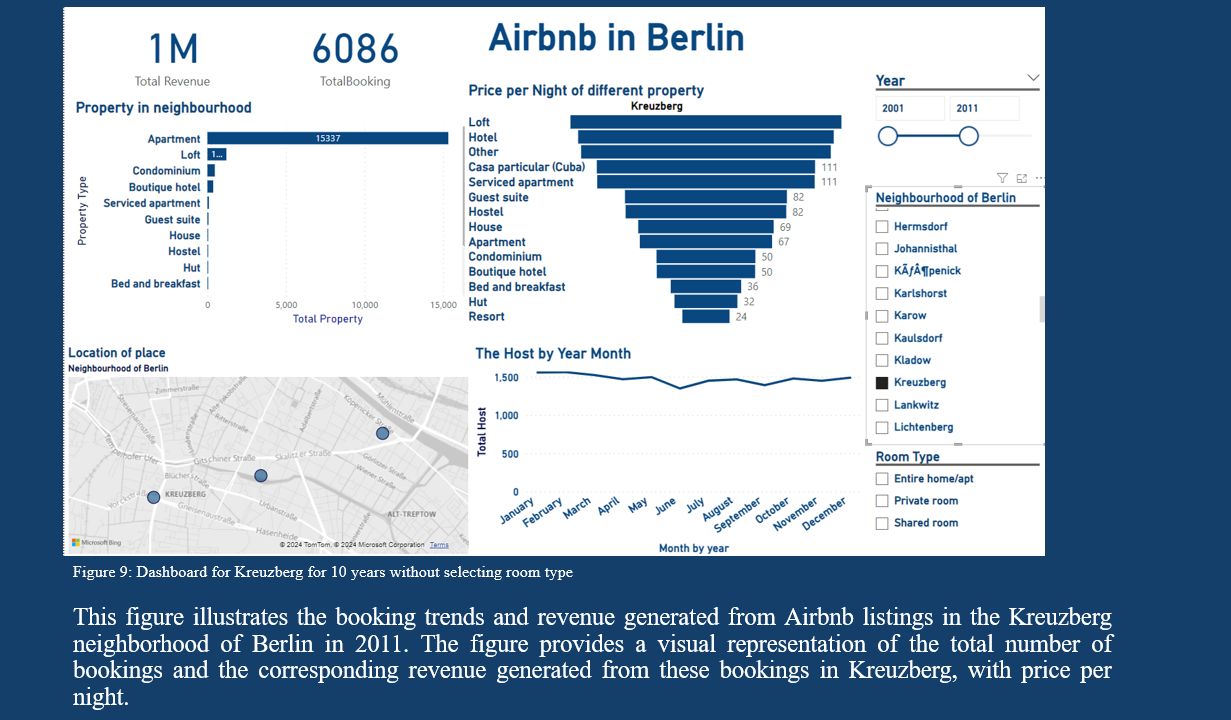

The page's visual inventory and layout, read from the dashboard file:
{"tool":"powerbi","page":{"name":"Airbnb","canvas":[1280,720],"ordinal":0},"visuals":[{"type":"slicer","fields":{"Values":["modified_dataset.neighbourhood"]},"box":[1041.5,237.4,238.8,336.2],"z":0},{"type":"slicer","fields":{"Values":["modified_dataset.room type"]},"box":[1041.5,573.6,238.8,146.8],"z":1000},{"type":"clusteredBarChart","title":"Property in neighbourhood","fields":{"Category":["modified_dataset.property type"],"Y":["CountNonNull(modified_dataset.neighbourhood)"]},"box":[9.6,123.5,520.1,299.1],"z":2000},{"type":"funnel","title":"Average price per Night of different property (Euro)","fields":{"Category":["modified_dataset.property type"],"Y":["Avg(modified_dataset.price)"]},"box":[520.1,101.5,499.5,321.1],"z":3000},{"type":"map","title":"Location of place","fields":{"Category":["modified_dataset.city"],"Series":["modified_dataset.neighbourhood"],"X":["Avg(modified_dataset.longitude)"],"Y":["Avg(modified_dataset.latitude)"]},"box":[0,443.2,529.7,277.2],"z":4000},{"type":"lineChart","title":"The Host by Year Month","fields":{"Y":["CountNonNull(modified_dataset.host name)"],"Category":["modified_dataset.review_date.Variation.Date Hierarchy.Month"]},"box":[529.7,443.2,511.8,277.2],"z":5000},{"type":"slicer","fields":{"Values":["modified_dataset.review_date.Variation.Date Hierarchy.Year"]},"box":[1041.5,83.7,238.8,153.7],"z":6000},{"type":"card","fields":{"Values":["modified_dataset.TotalRevenue"]},"box":[9.6,0,260.7,123.5],"z":7000},{"type":"textbox","box":[546.1,9.6,447.3,79.6],"z":8000},{"type":"card","fields":{"Values":["modified_dataset.TotalBooking"]},"box":[258,0,240.1,123.5],"z":9000}]}

Visuals, with their boxes on the page's 1280x720 design canvas (x1, y1, x2, y2). These are canvas units, not pixel positions in the 1231x720 screenshot, which may show the page scaled, cropped or inside an application window:
slicer - modified_dataset.neighbourhood: locate(1042, 237, 1280, 574)
slicer - modified_dataset.room type: locate(1042, 574, 1280, 720)
"Property in neighbourhood" clusteredBarChart: locate(10, 124, 530, 423)
"Average price per Night of different property (Euro)" funnel: locate(520, 102, 1020, 423)
"Location of place" map: locate(0, 443, 530, 720)
"The Host by Year Month" lineChart: locate(530, 443, 1042, 720)
slicer - modified_dataset.review_date.Variation.Date Hierarchy.Year: locate(1042, 84, 1280, 237)
card - modified_dataset.TotalRevenue: locate(10, 0, 270, 124)
textbox: locate(546, 10, 993, 89)
card - modified_dataset.TotalBooking: locate(258, 0, 498, 124)
